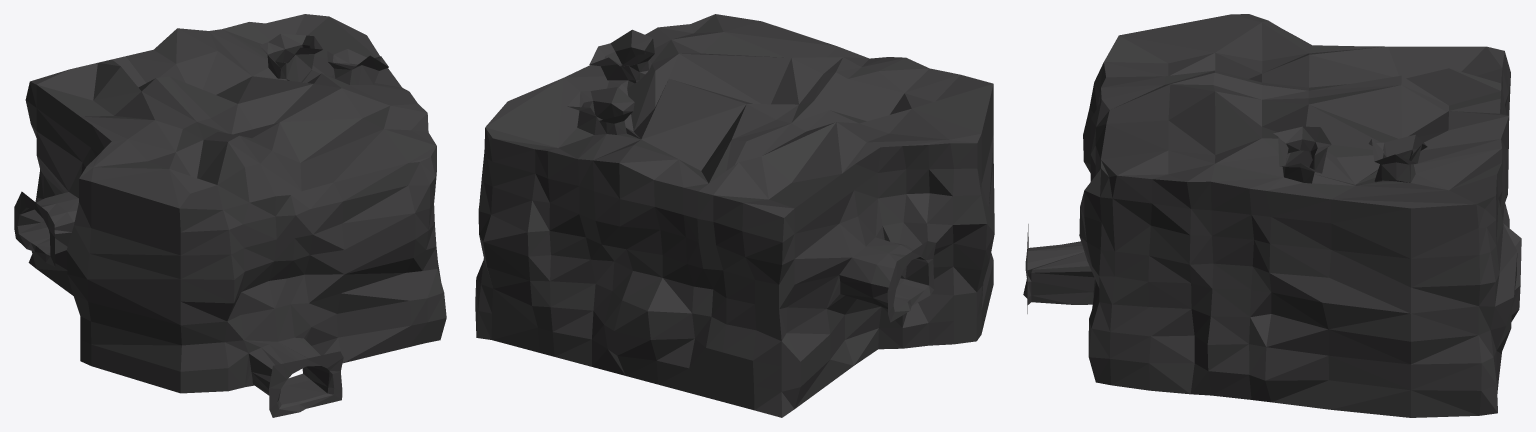
File: Cave_14B_LOD_1.fbx
3 renders of one model, left to right at view 1: azimuth 30°, elevation 25°; view 2: azimuth 150°, elevation 25°; view 3: azimuth 270°, elevation 25°, orthographic. The views are drawn at different scales.
Parts seen in each view (by area): view 1: polySurface1227; view 2: polySurface1227; view 3: polySurface1227.
Boxes of the visible parts, x1=… form: polySurface1227: x1=14, y1=14, x2=446, y2=417; polySurface1227: x1=475, y1=14, x2=994, y2=417; polySurface1227: x1=1023, y1=14, x2=1521, y2=417.
Size of the model in its own units: 45.92 by 26.92 by 46.76.
